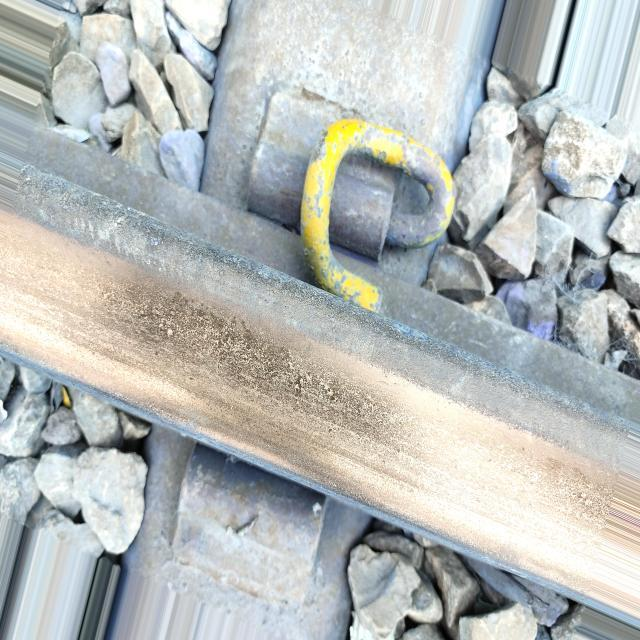Good Fasteners: (203, 1, 474, 311)
Missing Fastener: (109, 424, 373, 640)
